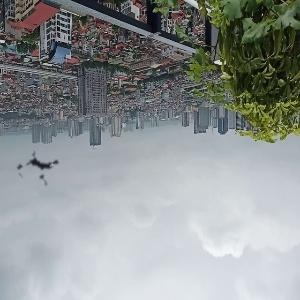drone: (3, 132, 78, 207)
